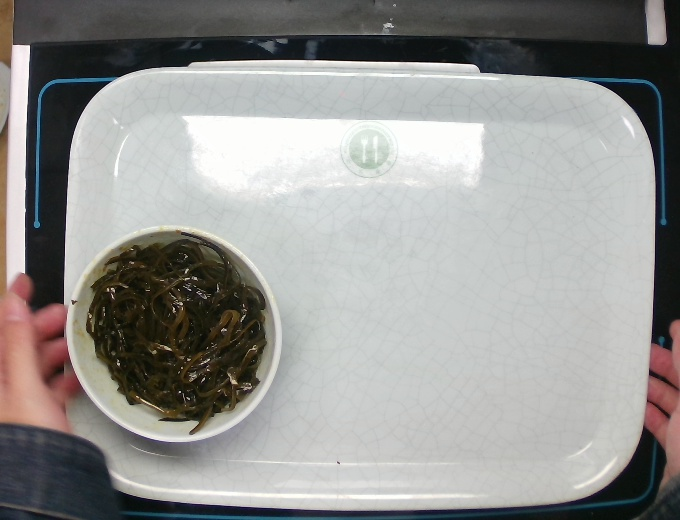JYsf-Fan_Wan: (59, 222, 288, 451)
